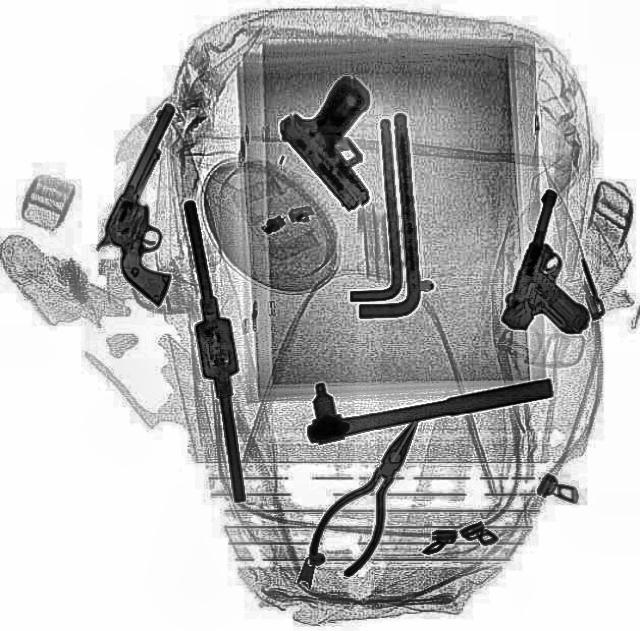Gun: (74, 100, 248, 306), (268, 69, 427, 213), (494, 186, 628, 349)
Pliers: (295, 405, 447, 585)
